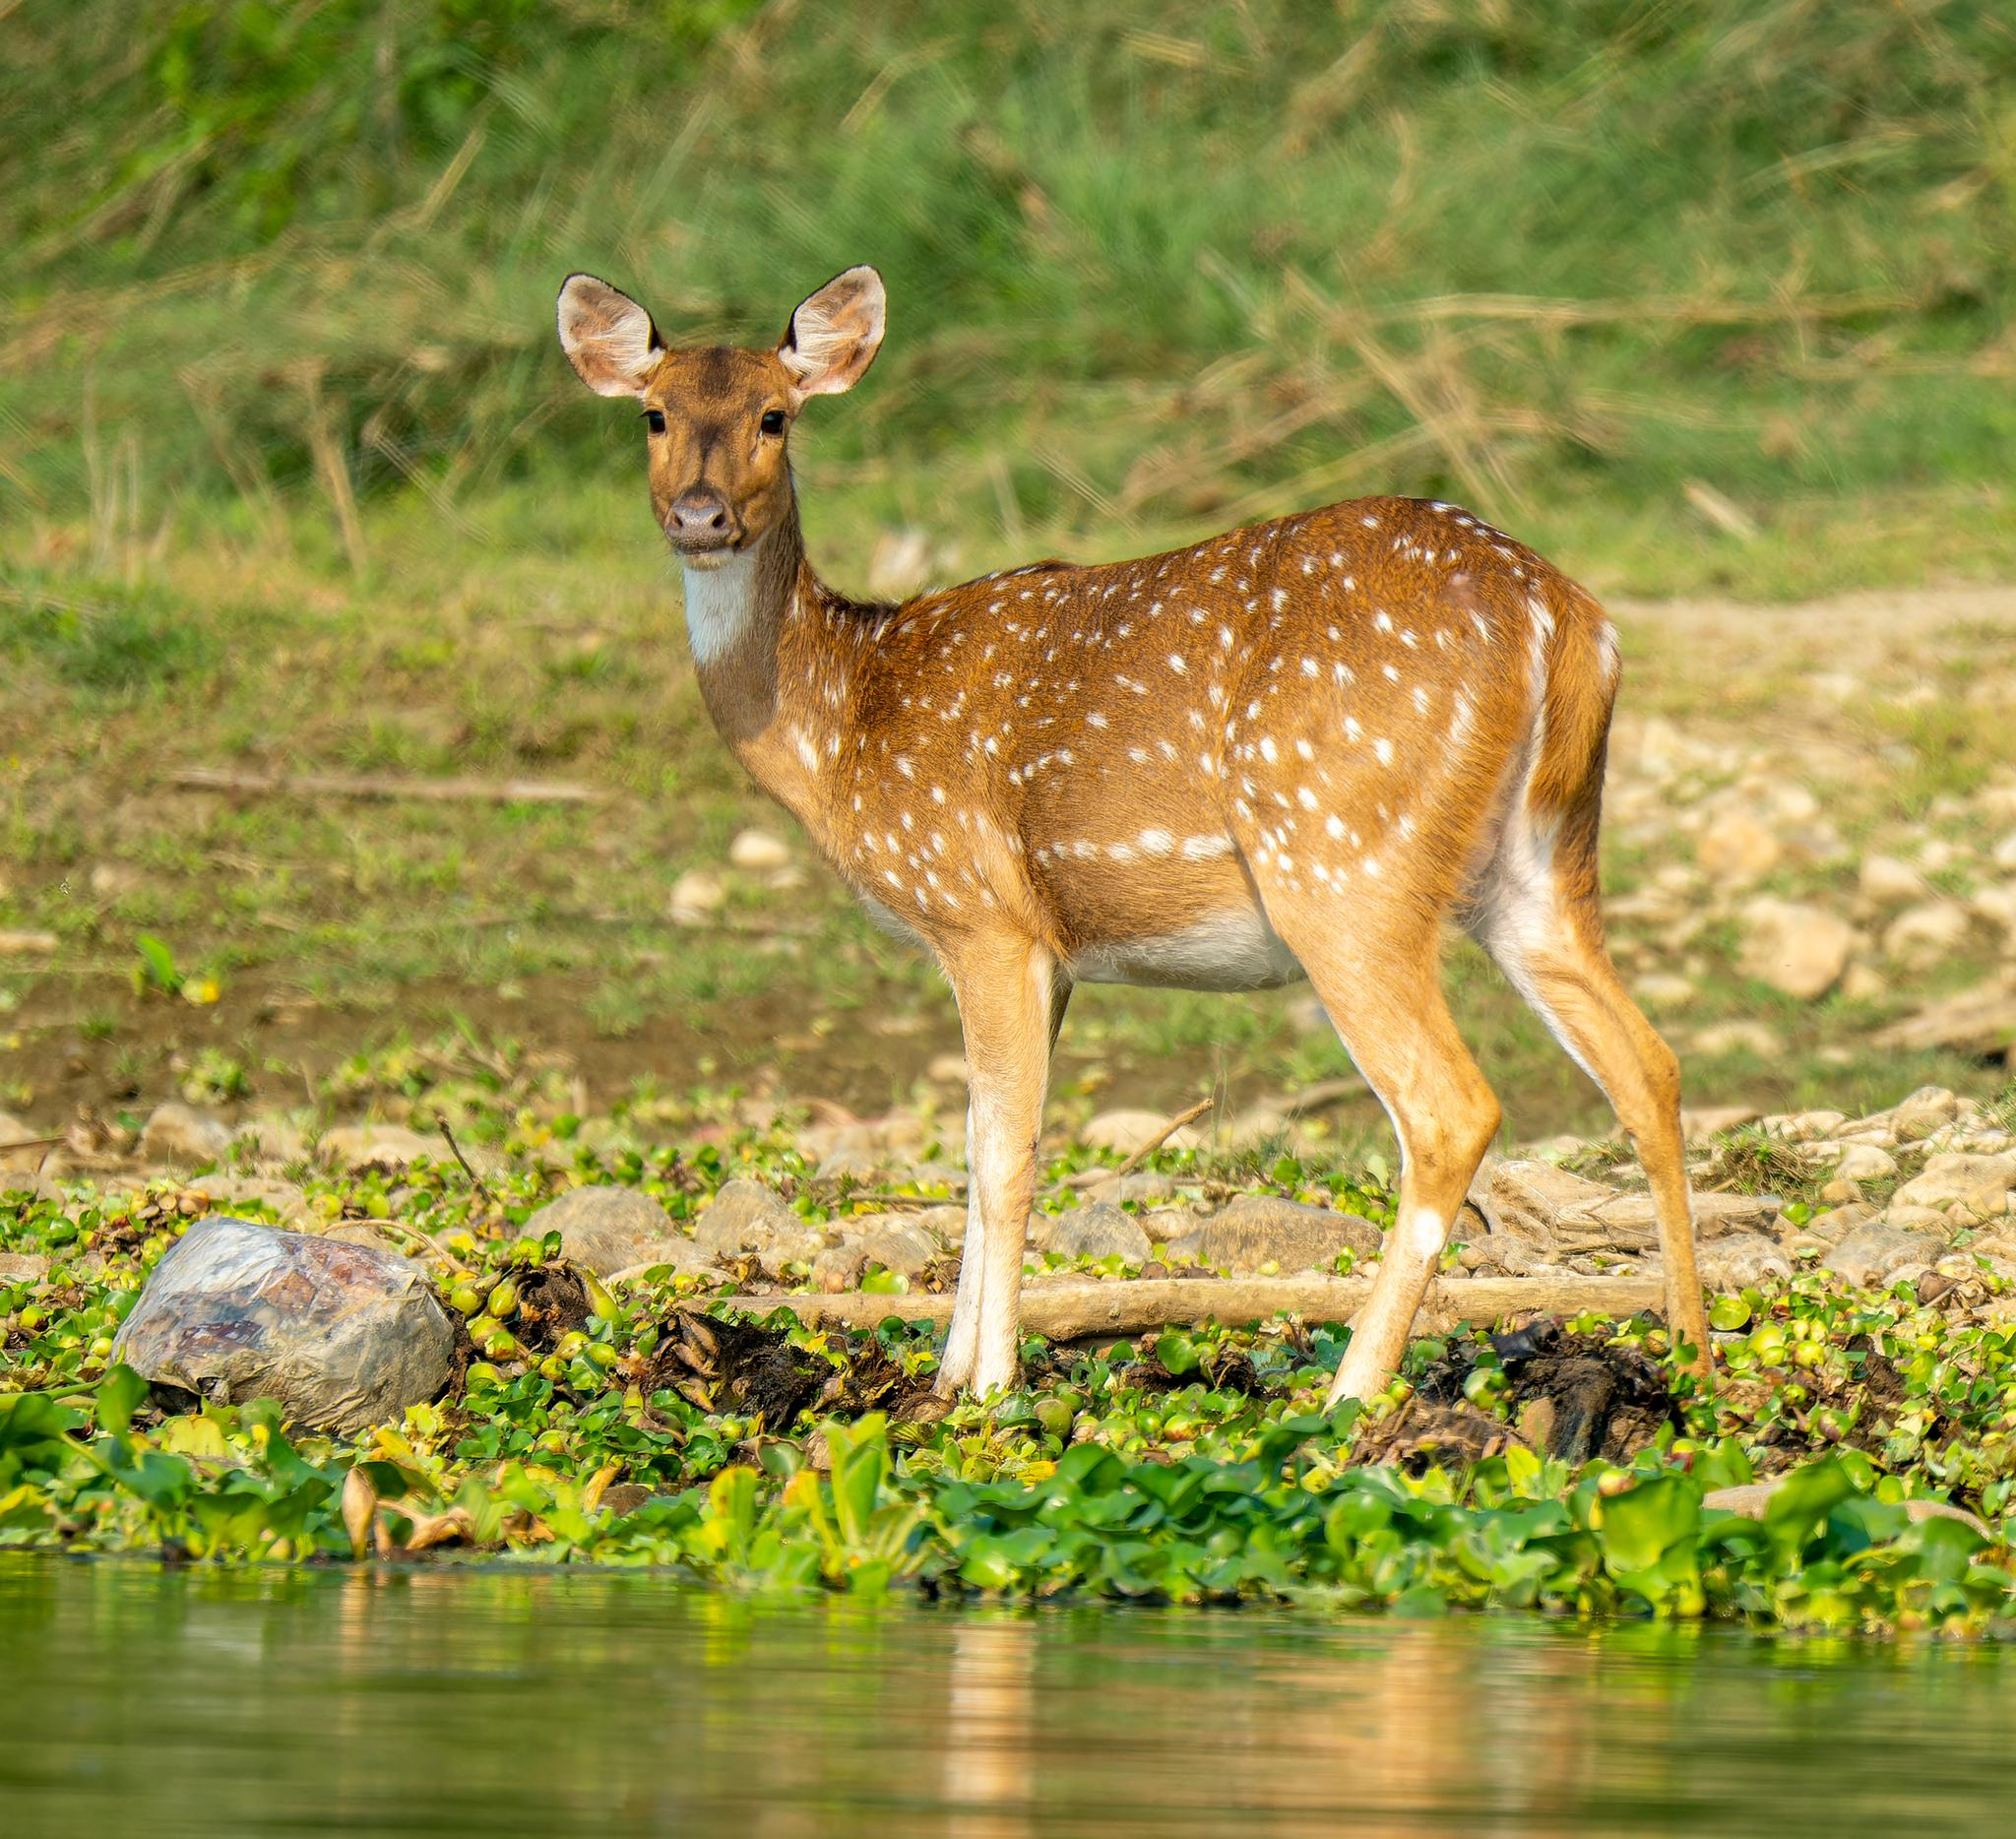Deer: (557, 269, 1703, 1395)
